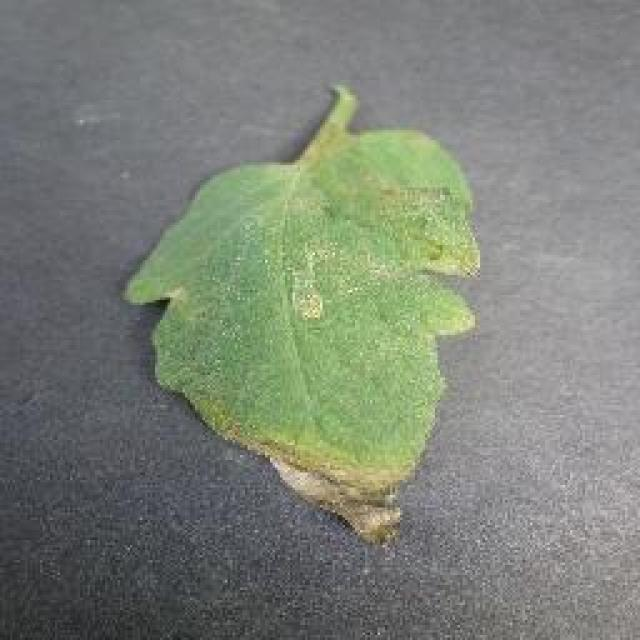Tomato___Late_blight: (120, 85, 482, 548)
